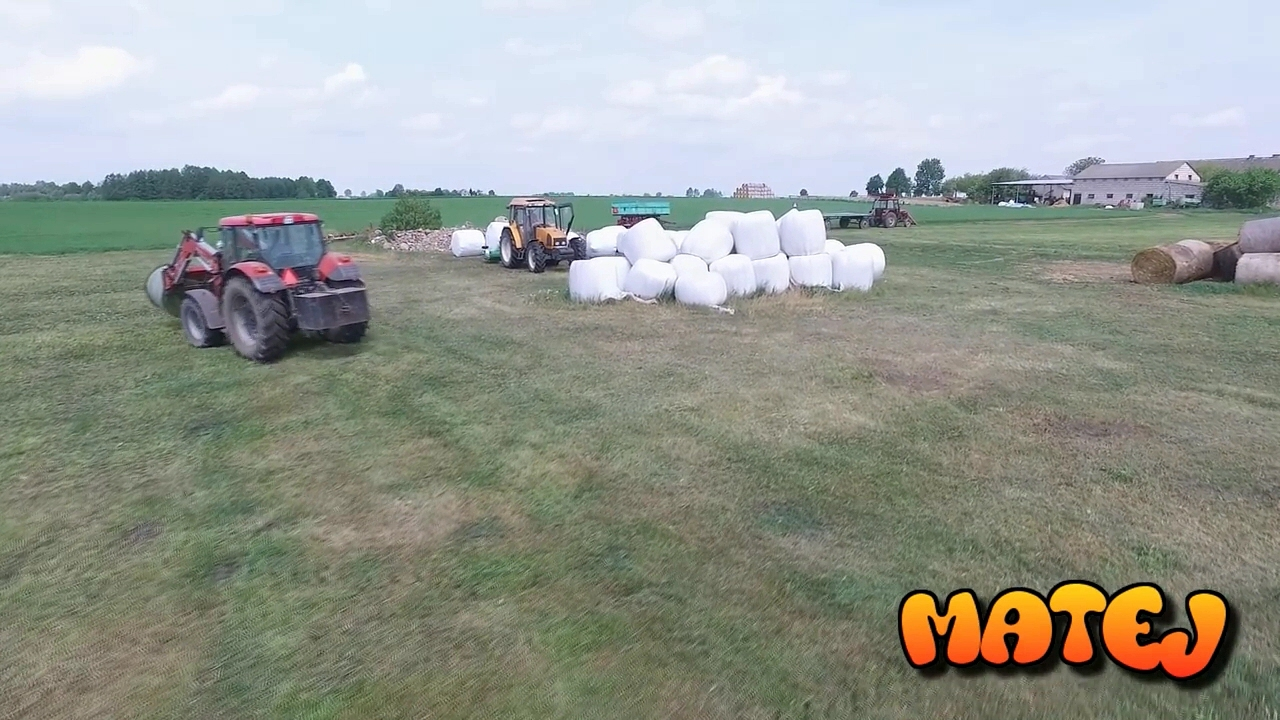traktor: (158, 187, 375, 355), (496, 189, 585, 274), (870, 191, 915, 228)
